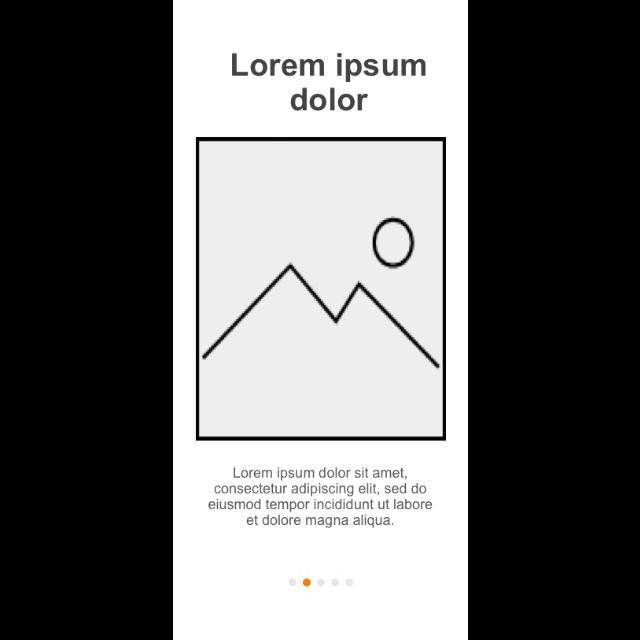image: (196, 137, 447, 441)
pageindicator: (288, 578, 354, 586)
text: (208, 467, 432, 529), (230, 52, 426, 111)
